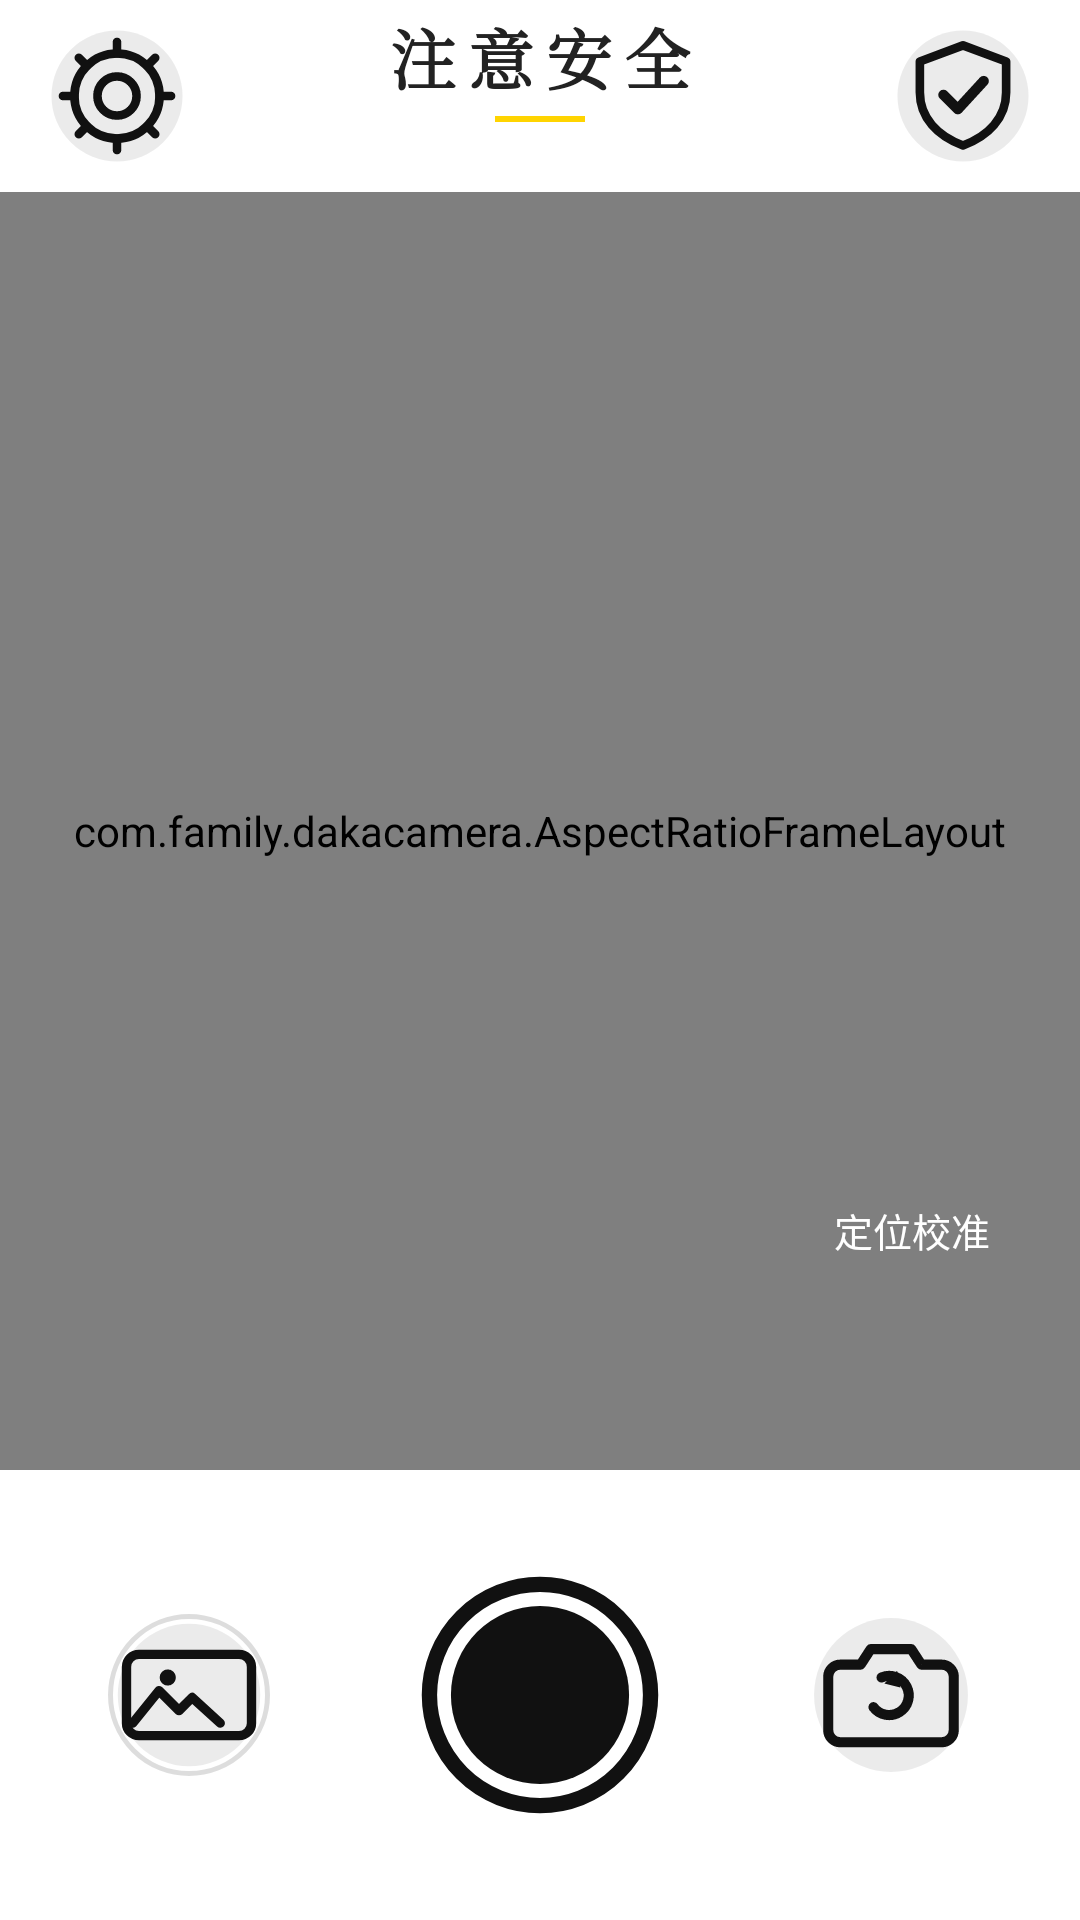

Icons on this 1080×1920 Android screen, each with the point to tap as [x,y]:
切换前后摄像头: [891,1695]
拍照: [540,1695]
相册: [189,1695]
设置: [117,96]
防伪验真: [963,96]
